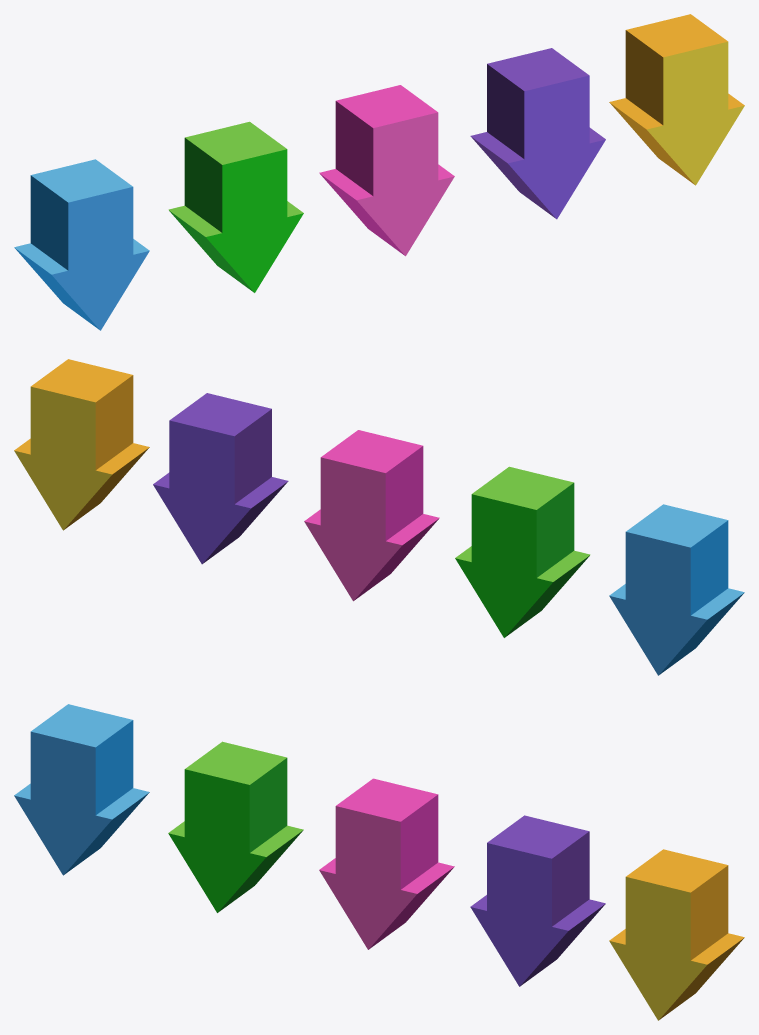
The picture shows the model from 3 angles, top to bottom: view 1: azimuth 30°, elevation 25°; view 2: azimuth 150°, elevation 25°; view 3: azimuth 330°, elevation 25°; orthographic projection.
Visible parts, largest first — view 1: Cube, Cube.004, Cube.002, Cube.001, Cube.003; view 2: Cube, Cube.004, Cube.002, Cube.001, Cube.003; view 3: Cube.002, Cube.004, Cube, Cube.001, Cube.003.
Boxes of the visible parts, x1=… form: Cube: x1=14, y1=159, x2=149, y2=330; Cube.004: x1=609, y1=14, x2=744, y2=185; Cube.002: x1=319, y1=85, x2=454, y2=256; Cube.001: x1=168, y1=121, x2=303, y2=292; Cube.003: x1=470, y1=48, x2=605, y2=219; Cube: x1=609, y1=504, x2=744, y2=675; Cube.004: x1=14, y1=359, x2=149, y2=530; Cube.002: x1=304, y1=430, x2=439, y2=601; Cube.001: x1=455, y1=466, x2=590, y2=637; Cube.003: x1=153, y1=393, x2=288, y2=564; Cube.002: x1=319, y1=778, x2=454, y2=949; Cube.004: x1=609, y1=849, x2=744, y2=1020; Cube: x1=14, y1=704, x2=149, y2=875; Cube.001: x1=168, y1=741, x2=303, y2=912; Cube.003: x1=470, y1=815, x2=605, y2=986.
Bounding box in the file's own units: 2132 × 400 × 200.
Materials: 1 (1 with a texture image).
